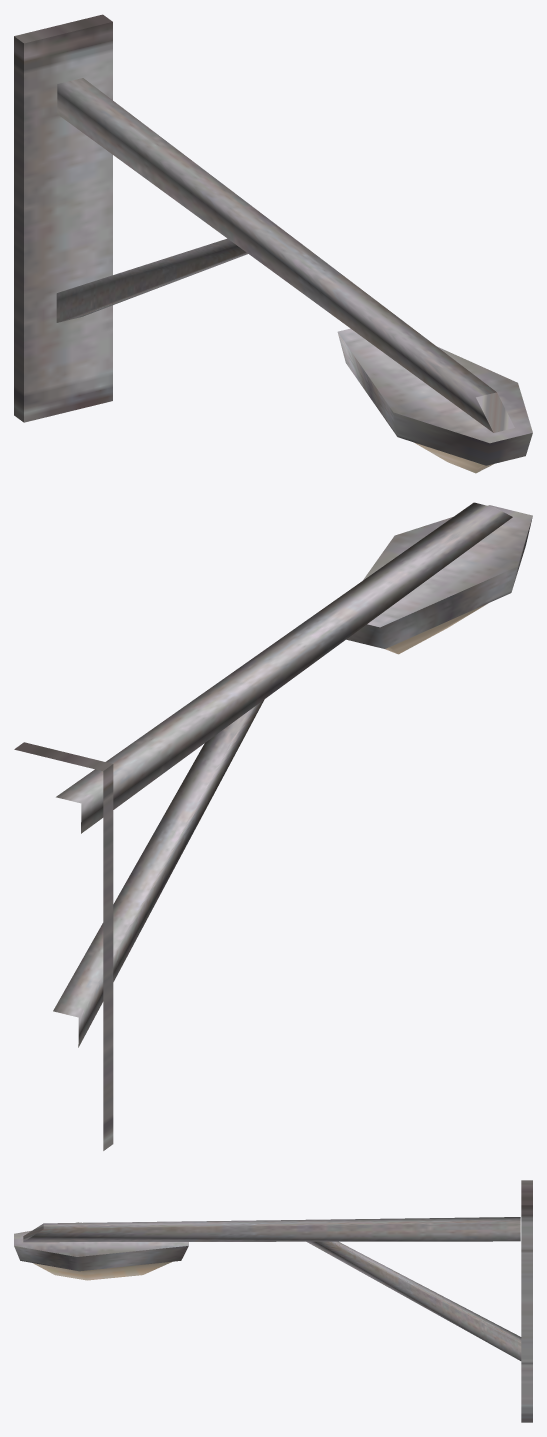
The model's file is M11_Lampost_Wall.glb.
3 views of the same model, one above another, from view 1: azimuth 30°, elevation 25°; view 2: azimuth 150°, elevation 25°; view 3: azimuth 270°, elevation 25° (orthographic). The views are drawn at different scales.
Parts seen in each view (by area): view 1: M11_LAMPOST_WALL; view 2: M11_LAMPOST_WALL; view 3: M11_LAMPOST_WALL.
Boxes of the visible parts, x1,y1,x2,y2 form: M11_LAMPOST_WALL: [14, 14, 532, 473]; M11_LAMPOST_WALL: [14, 502, 532, 1150]; M11_LAMPOST_WALL: [14, 1180, 532, 1422].
Bounding box in the file's own units: 0.356 × 1.04 × 2.26.
Materials: 1 (1 with a texture image).
